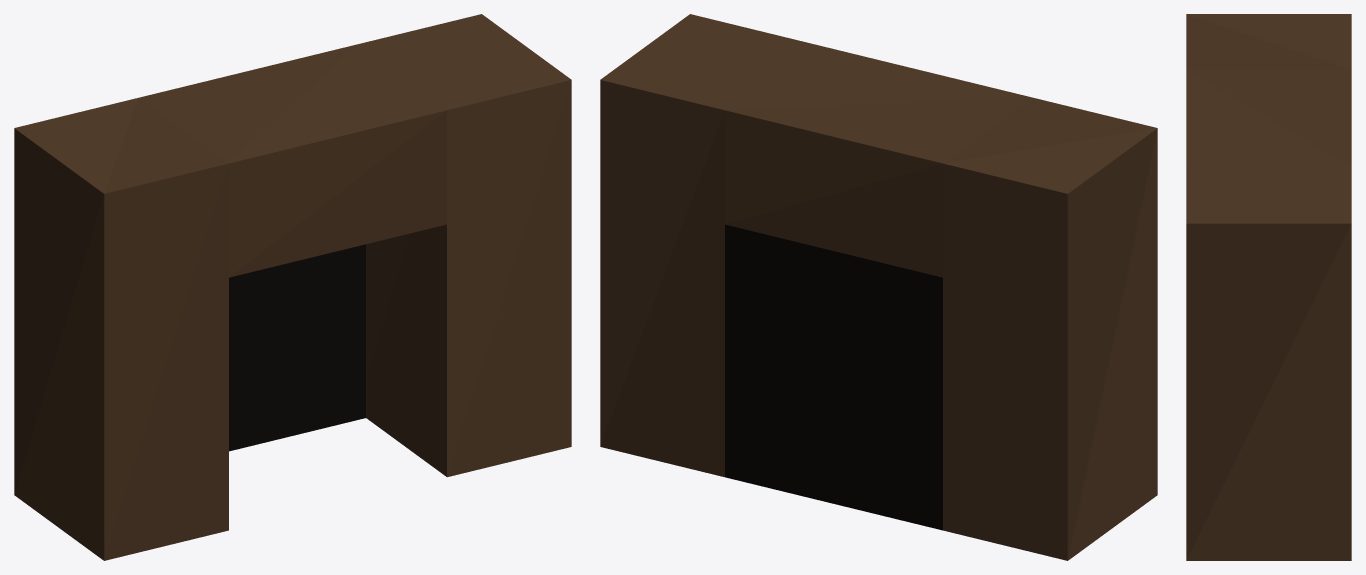
Rendered from tunnel-portal-a.glb.
3 views of the same model, side by side, from view 1: azimuth 30°, elevation 25°; view 2: azimuth 150°, elevation 25°; view 3: azimuth 270°, elevation 25° (orthographic). The views are drawn at different scales.
Visible parts, largest first — view 1: tunnel-portal-a; view 2: tunnel-portal-a; view 3: tunnel-portal-a.
Boxes of the visible parts, left/top/right/bottom form: tunnel-portal-a: left=14, top=14, right=571, bottom=560; tunnel-portal-a: left=600, top=14, right=1157, bottom=560; tunnel-portal-a: left=1186, top=14, right=1351, bottom=560.
Bounding box in the file's own units: 6 × 4.5 × 2.
